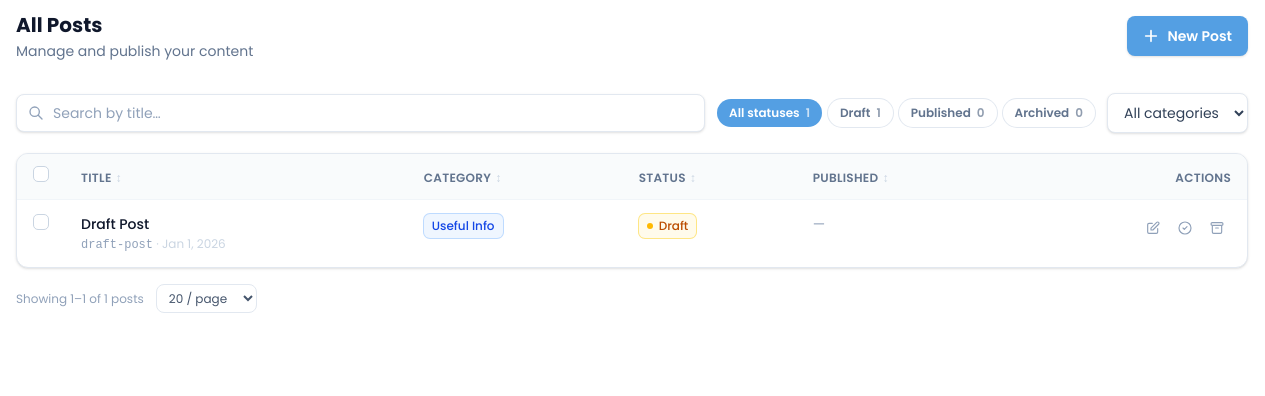
DashboardClient › shows an alert when a row action fails
Step 1. Click the button titled "Publish" → (1185, 228), box [1171,214,1199,242]
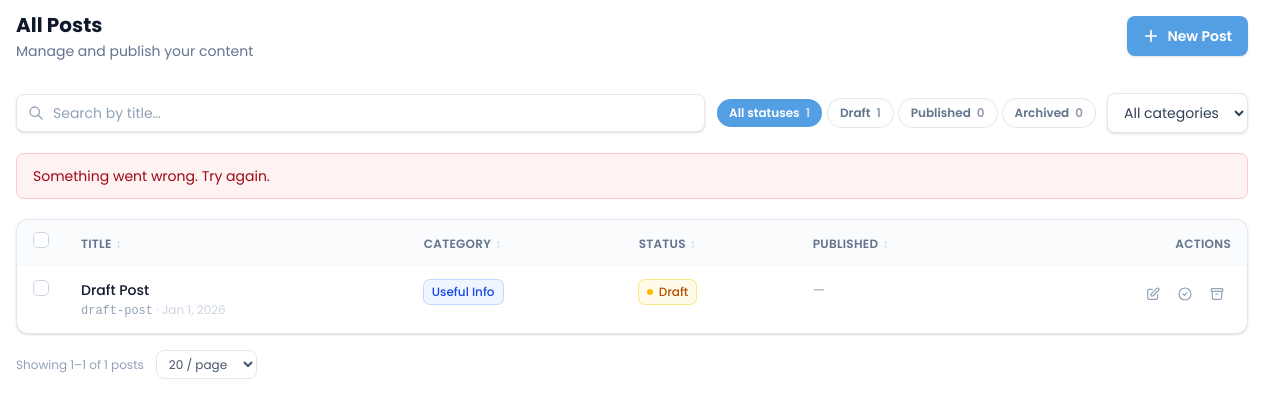
Now the message reads "Something went wrong. Try again.", box [33,166,270,186]
